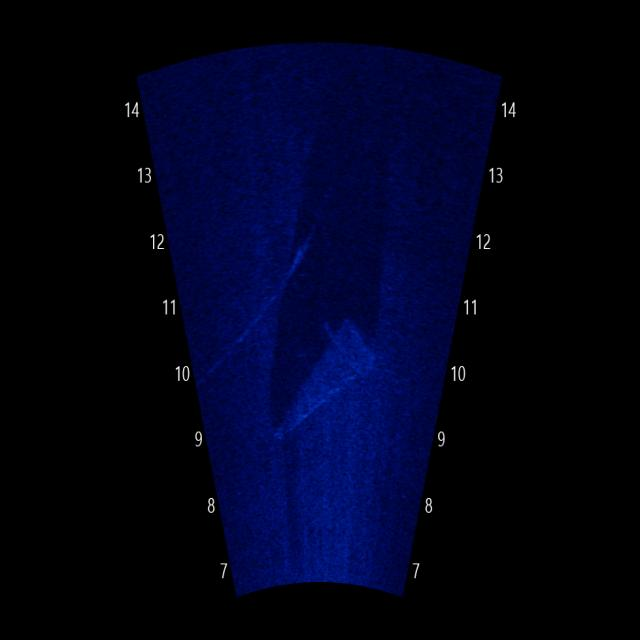triangle: (258, 286, 391, 472)
